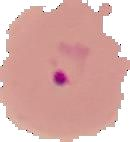parasitized: (34, 31, 108, 105)
